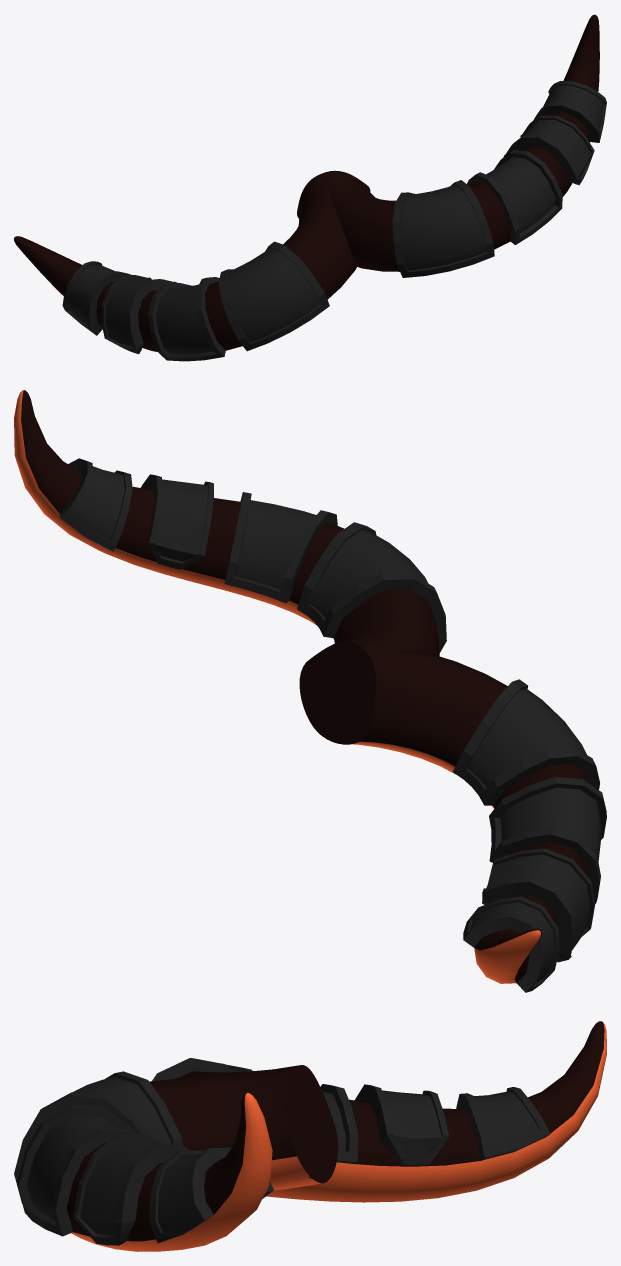
The picture shows the model from 3 angles, top to bottom: view 1: azimuth 30°, elevation 25°; view 2: azimuth 150°, elevation 25°; view 3: azimuth 270°, elevation 25°; orthographic projection. The views are drawn at different scales.
Parts seen in each view (by area): view 1: tail_decor.001, tail_001.001; view 2: tail_decor.001, tail_001.001; view 3: tail_001.001, tail_decor.001.
Part boxes in pixels (bbox=[...]): tail_decor.001: bbox=[62, 81, 606, 361]; tail_001.001: bbox=[14, 14, 599, 351]; tail_decor.001: bbox=[59, 458, 606, 992]; tail_001.001: bbox=[14, 390, 588, 983]; tail_001.001: bbox=[66, 1021, 606, 1251]; tail_decor.001: bbox=[14, 1058, 550, 1245].
Bounding box in the file's own units: 168 × 110 × 88.98.
